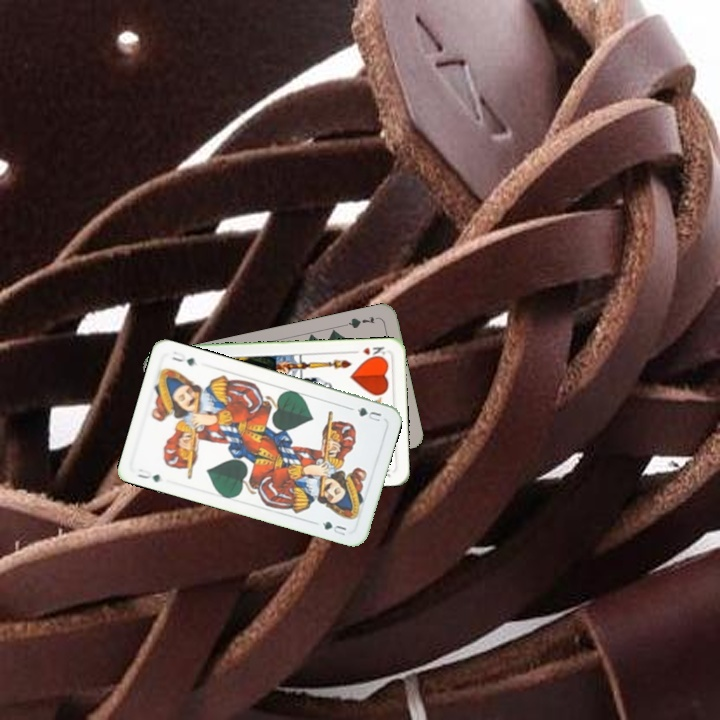G7: (341, 312, 381, 331)
GU: (353, 403, 384, 424), (133, 465, 163, 485)
HK: (349, 343, 387, 361)
